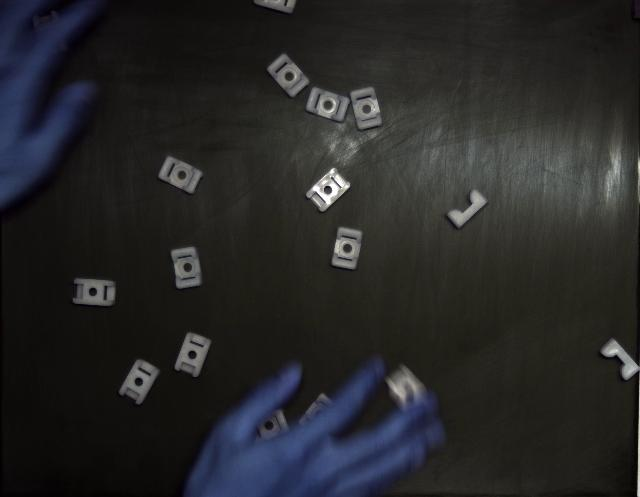first_side: (268, 54, 310, 98), (159, 156, 202, 194), (306, 88, 350, 122), (350, 88, 382, 130), (331, 228, 362, 270), (171, 248, 202, 289)
second_side: (306, 169, 350, 212), (119, 360, 160, 405), (175, 332, 211, 378), (72, 279, 116, 306)
third_side: (600, 339, 640, 380), (448, 190, 488, 229)
